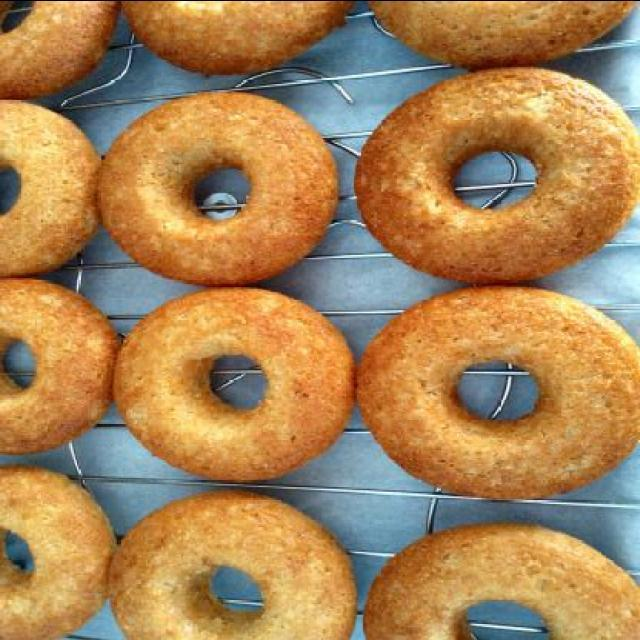Bagel: (0, 2, 638, 640), (353, 63, 639, 285)
